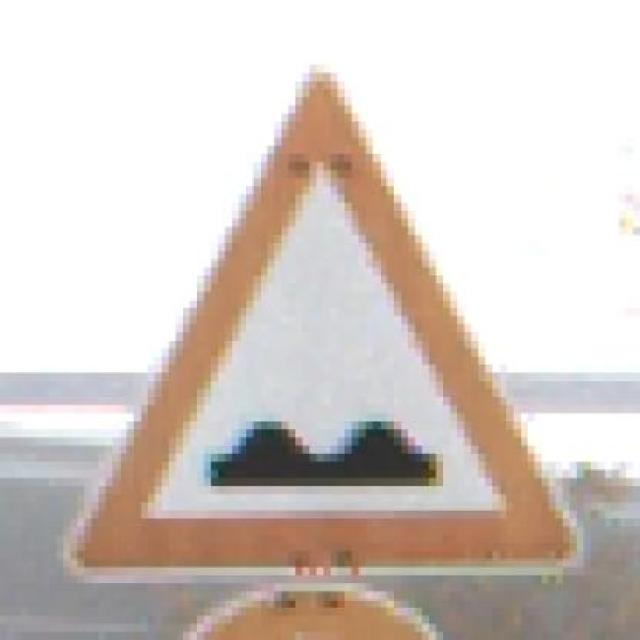Uneven Road: (42, 65, 590, 583)
